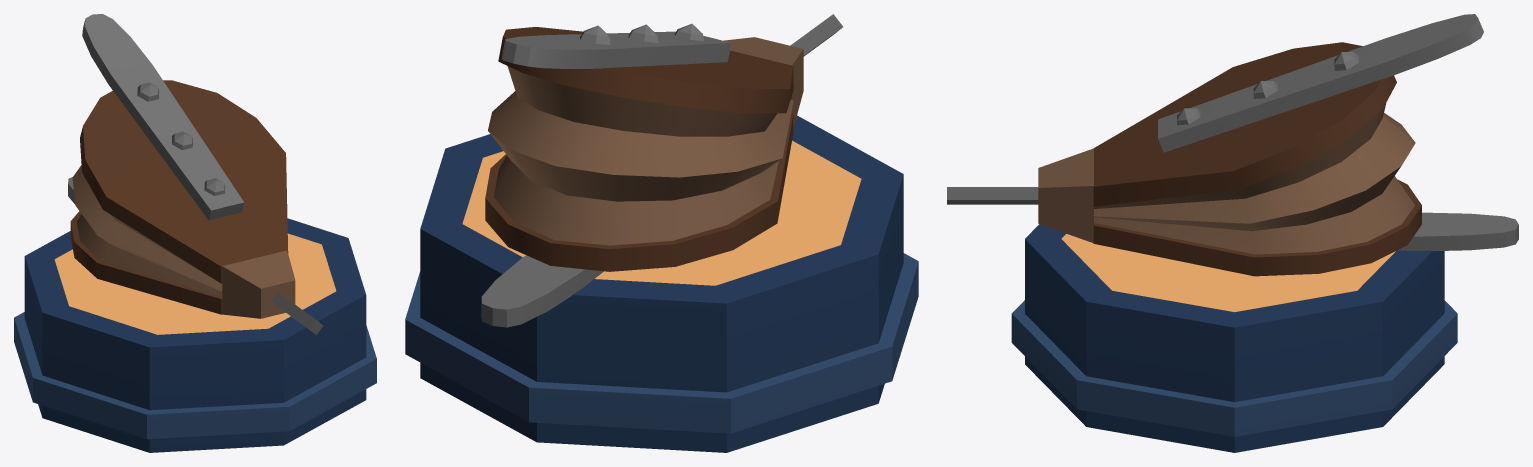
Rendered from Bellows.fbx.
3 views of the same model, side by side, from view 1: azimuth 30°, elevation 25°; view 2: azimuth 150°, elevation 25°; view 3: azimuth 270°, elevation 25° (orthographic). The views are drawn at different scales.
Parts seen in each view (by area): view 1: Bellows; view 2: Bellows; view 3: Bellows.
Part boxes in pixels (x1,y1,x2,y2): Bellows: (14, 14, 376, 452); Bellows: (405, 14, 918, 452); Bellows: (947, 14, 1518, 452).
Bounding box in the file's own units: 106 × 90.8 × 136.
